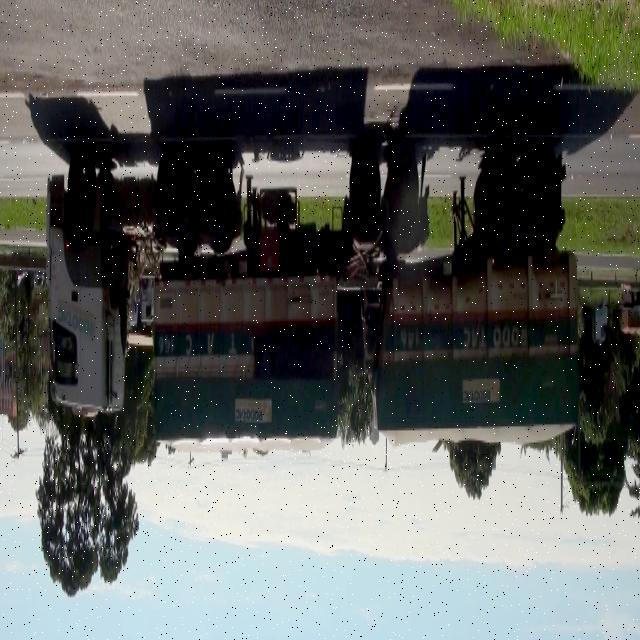-axle: (486, 146, 522, 235), (193, 144, 227, 233), (64, 142, 96, 234), (527, 145, 560, 232), (349, 142, 382, 229), (157, 142, 190, 227), (388, 150, 419, 237)
